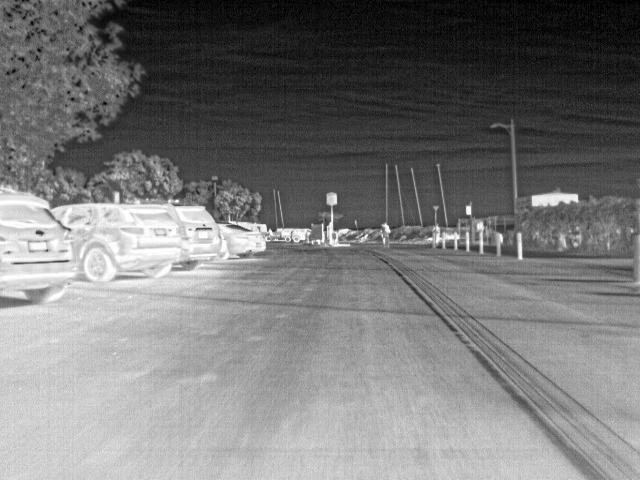car: (1, 188, 77, 305), (77, 202, 176, 284), (177, 202, 229, 272), (229, 222, 266, 259), (267, 229, 291, 243), (290, 228, 306, 244)
person: (432, 224, 444, 246), (381, 222, 394, 236)
